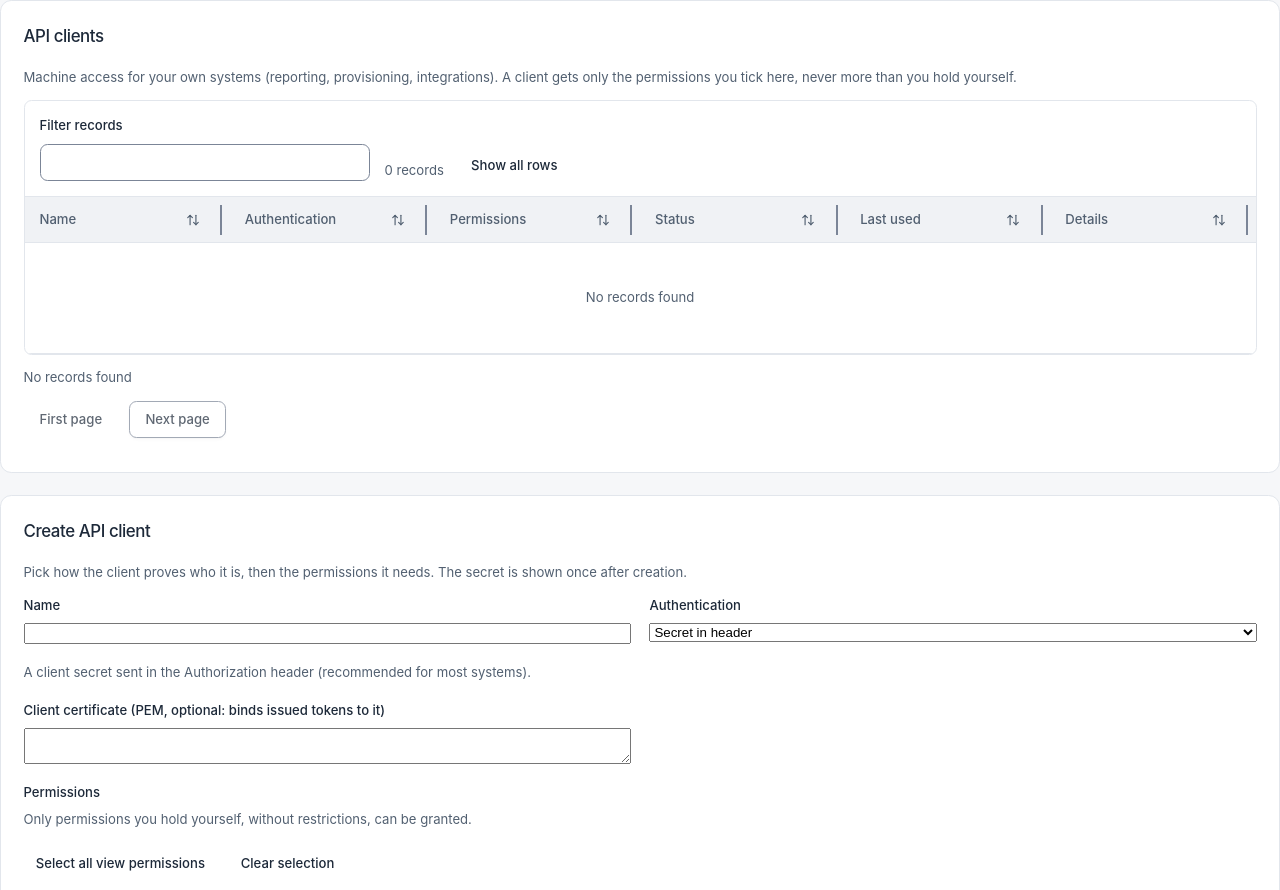
Test: needs a permission before creating, sends exactly the chosen scopes, and shows the secret once
Type " Reporting export " into the field labelled "Name" at (327, 634), box x1=24 y1=623 x2=631 y2=644
(page scrolled)
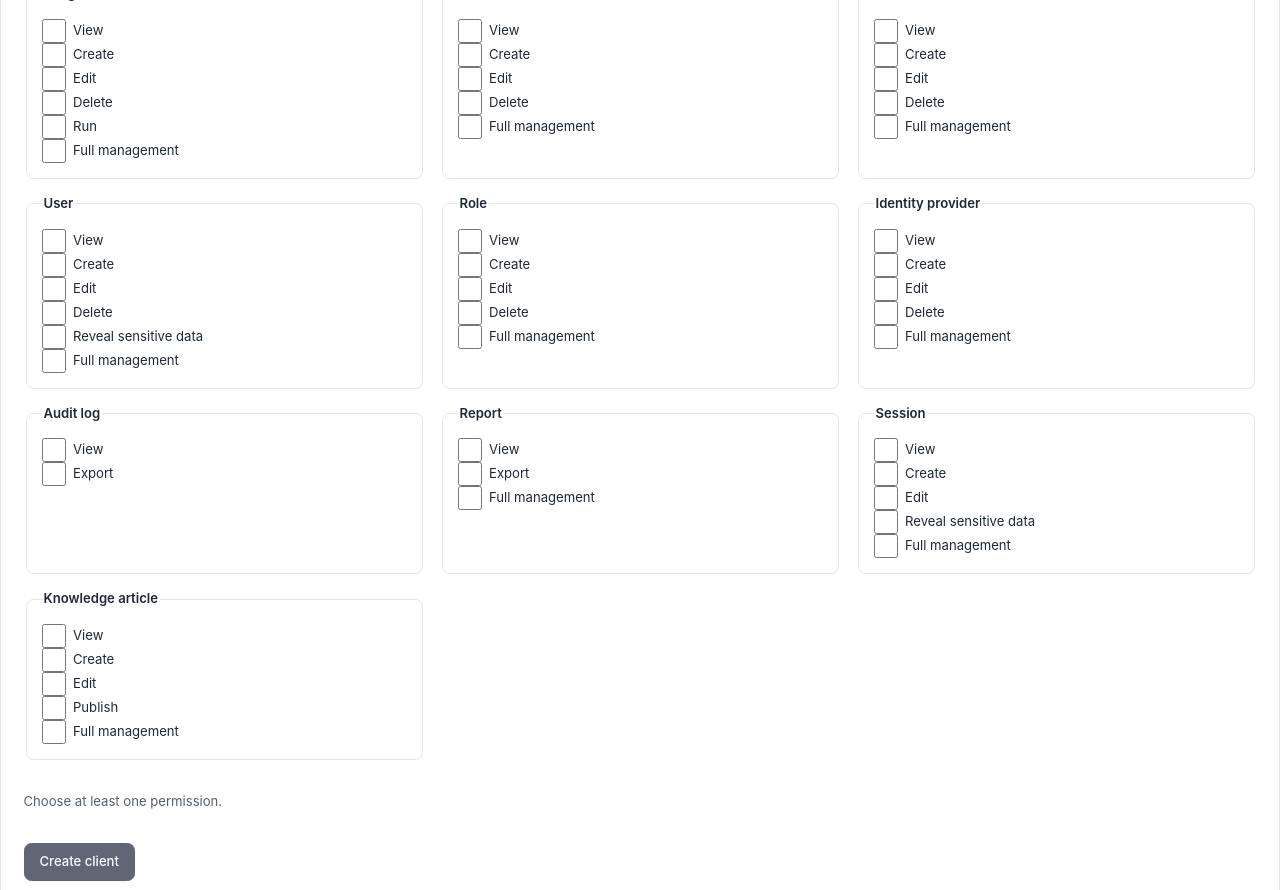
Expected: the button "Create client" is disabled, x1=24 y1=843 x2=135 y2=881
Expected: the text "Choose at least one permission." is shown, x1=24 y1=793 x2=222 y2=809
Click the 8th checkbox labelled "View" at (470, 450), box x1=458 y1=438 x2=482 y2=462
(page scrolled)
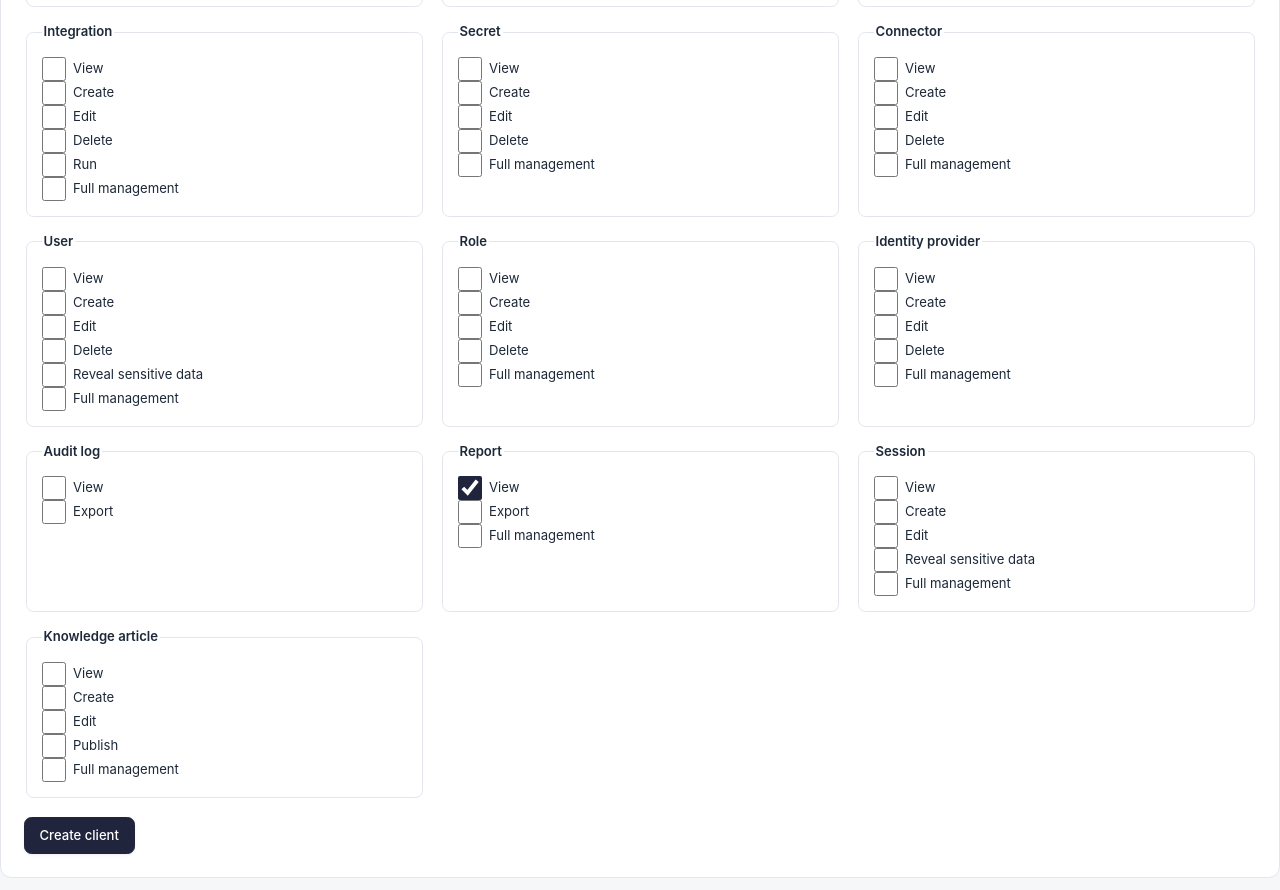
Click the 2nd checkbox labelled "Export" at (470, 512), box x1=458 y1=500 x2=482 y2=524
(page scrolled)
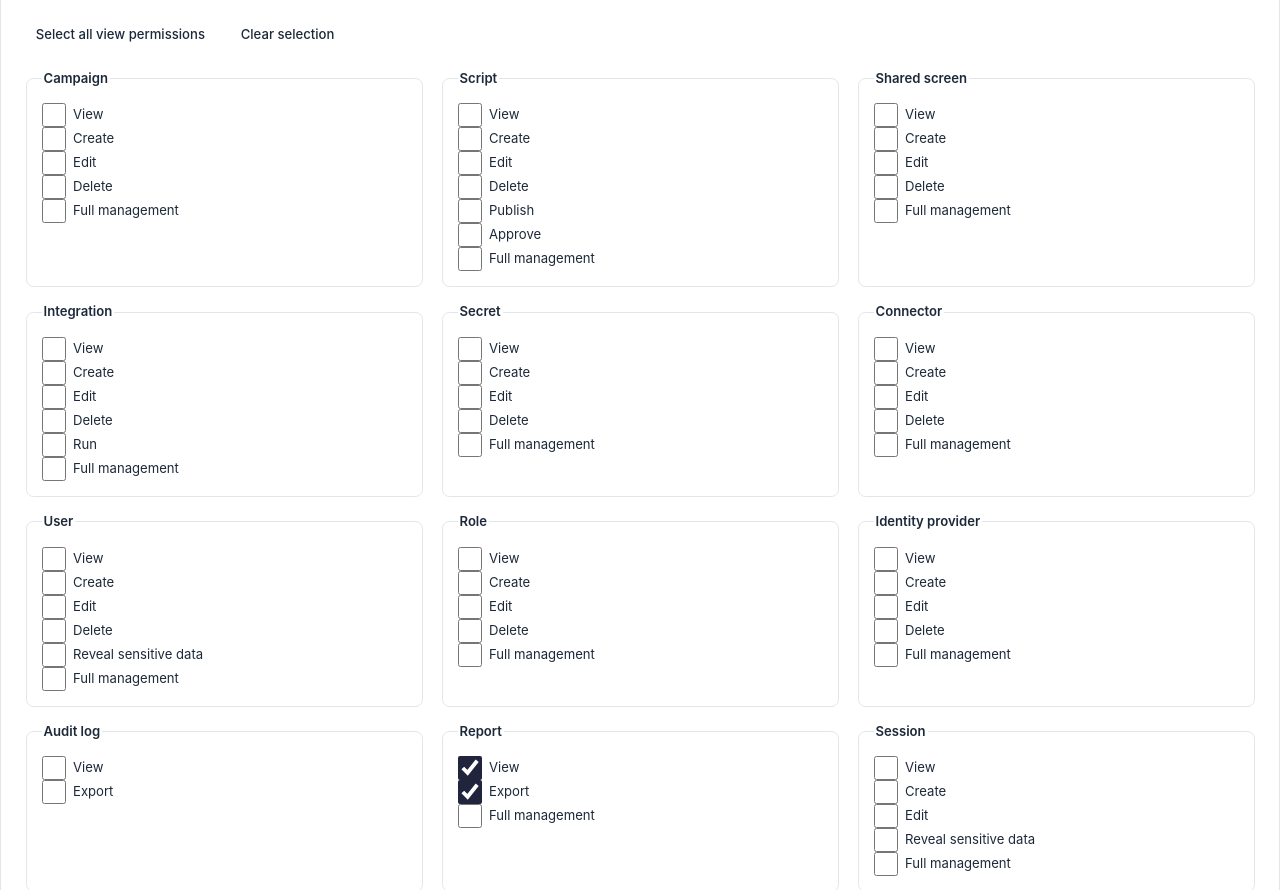
Submit the form named "Create client"
(page scrolled)
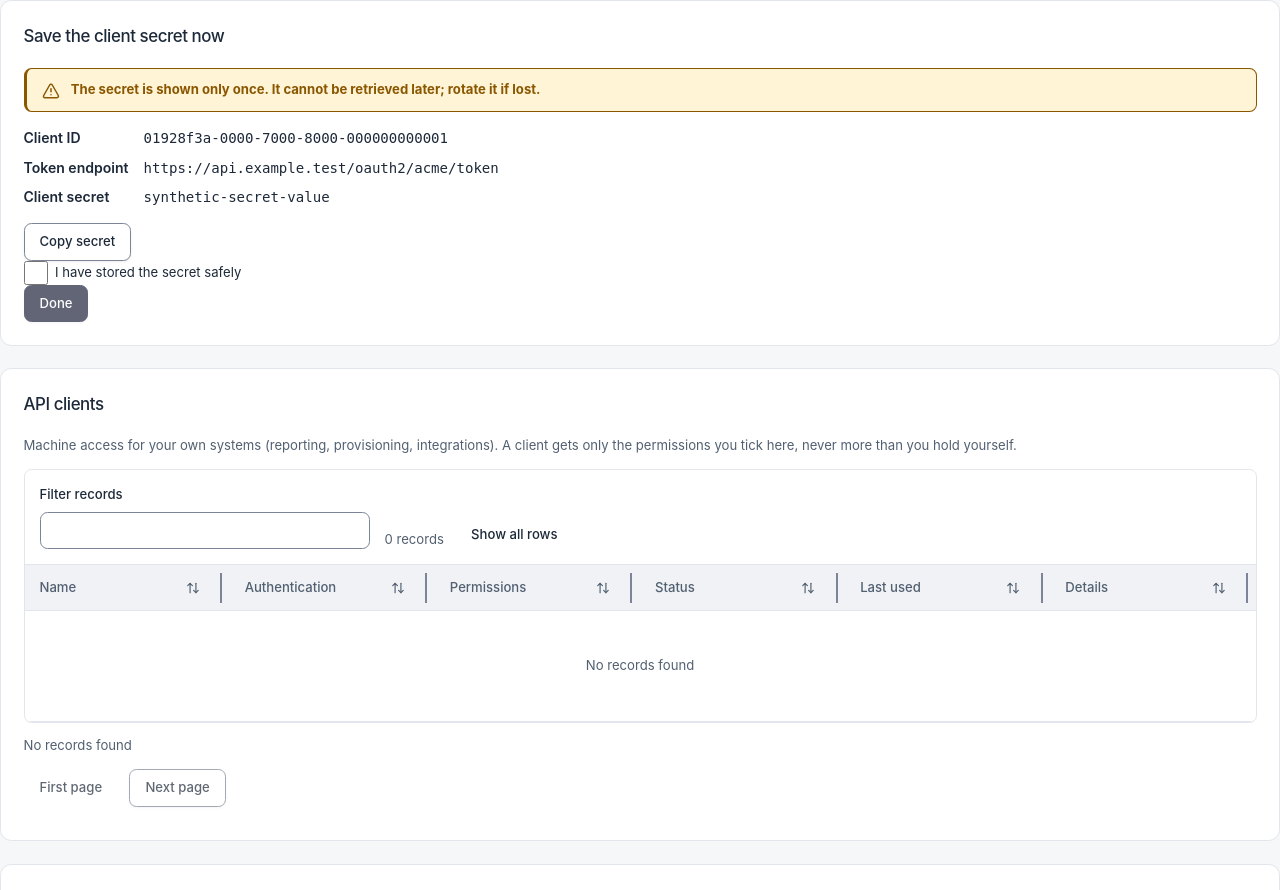
Expected: the heading "Save the client secret now" is shown, x1=24 y1=26 x2=224 y2=46
Expected: the text with test id "client-secret" reads "synthetic-secret-value", x1=144 y1=189 x2=330 y2=205
Expected: the button "Done" is disabled, x1=24 y1=285 x2=88 y2=322
Click the checkbox labelled "I have stored the secret safely" at (36, 273), box x1=24 y1=261 x2=48 y2=285
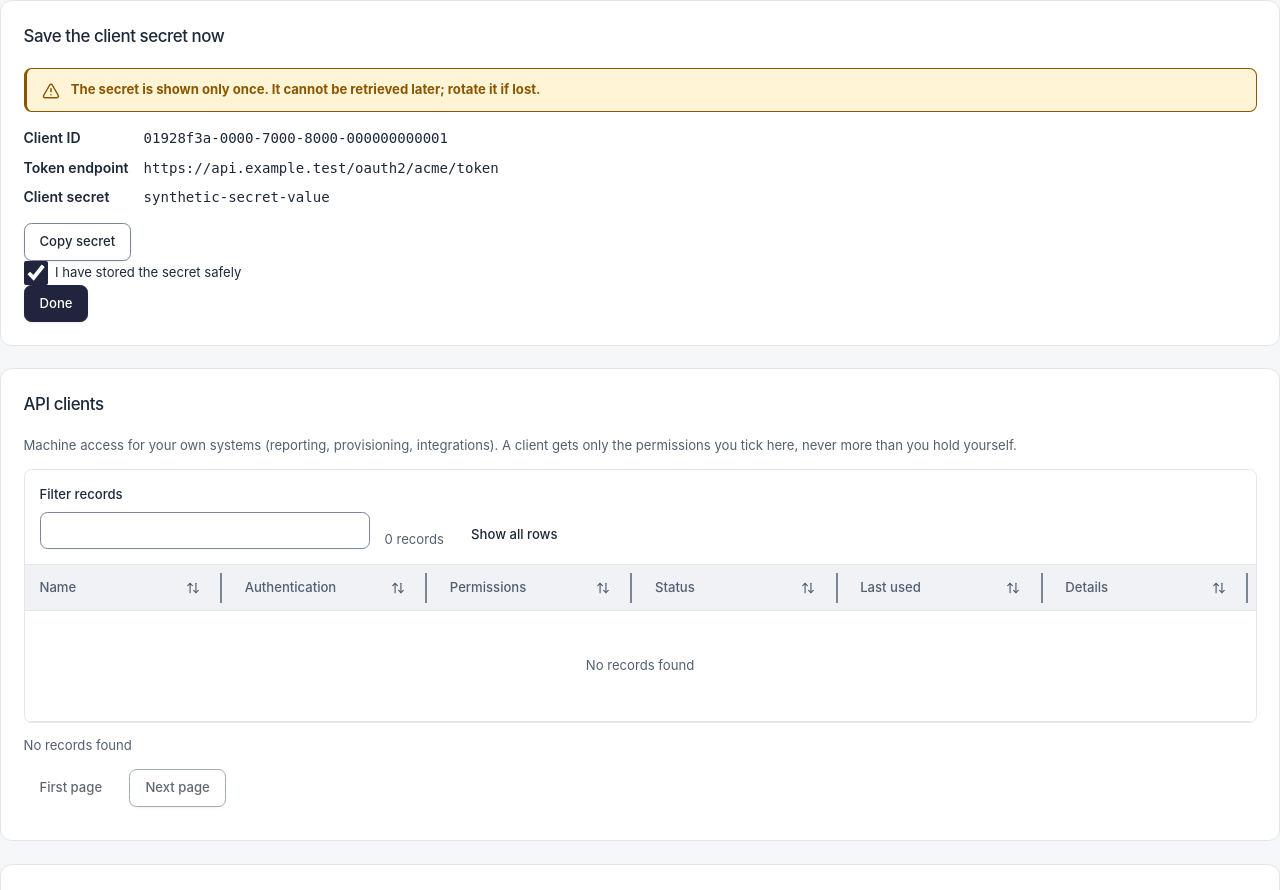
Click the button "Done" at (56, 304), box x1=24 y1=285 x2=88 y2=322
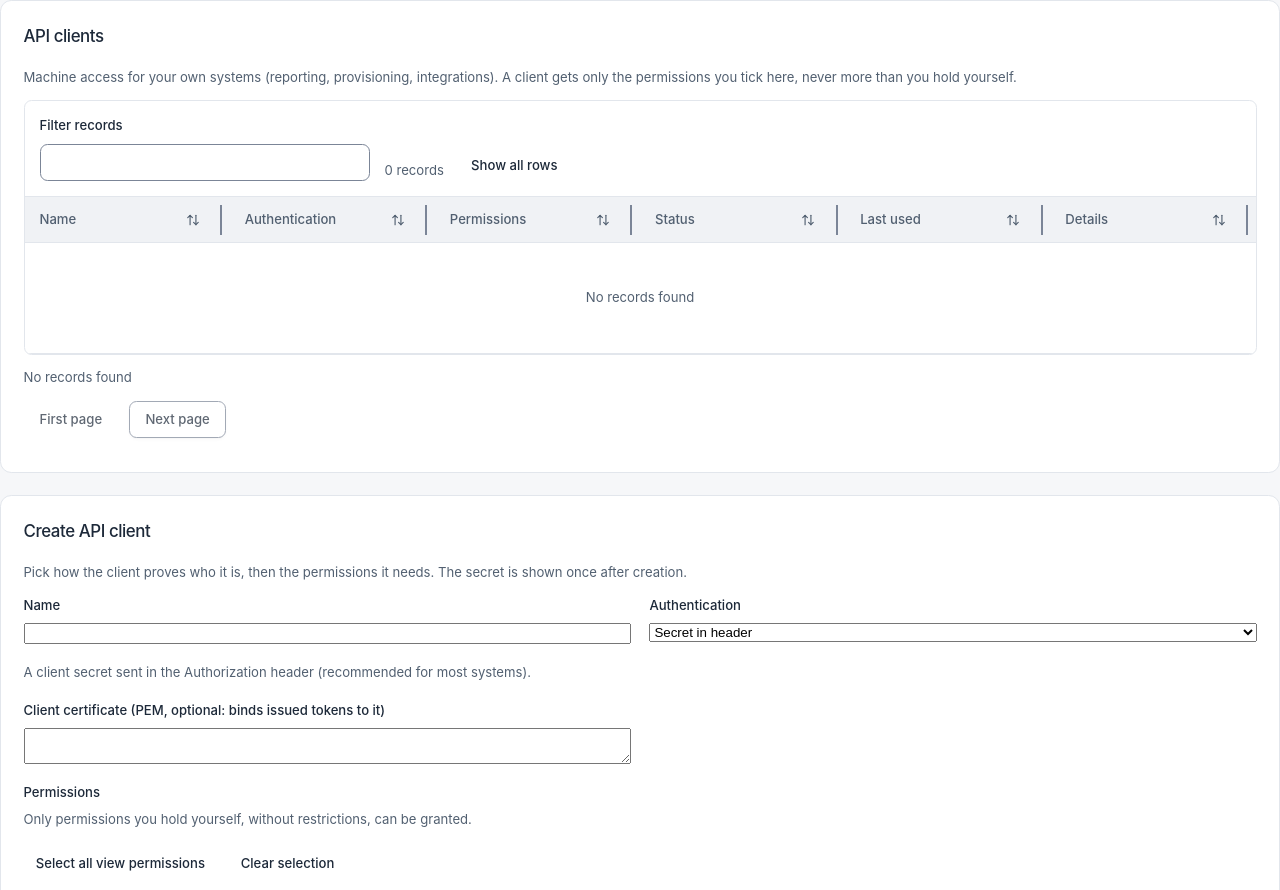
Expected: the text with test id "client-secret" is gone
Expected: the text "synthetic-secret-value" is gone
